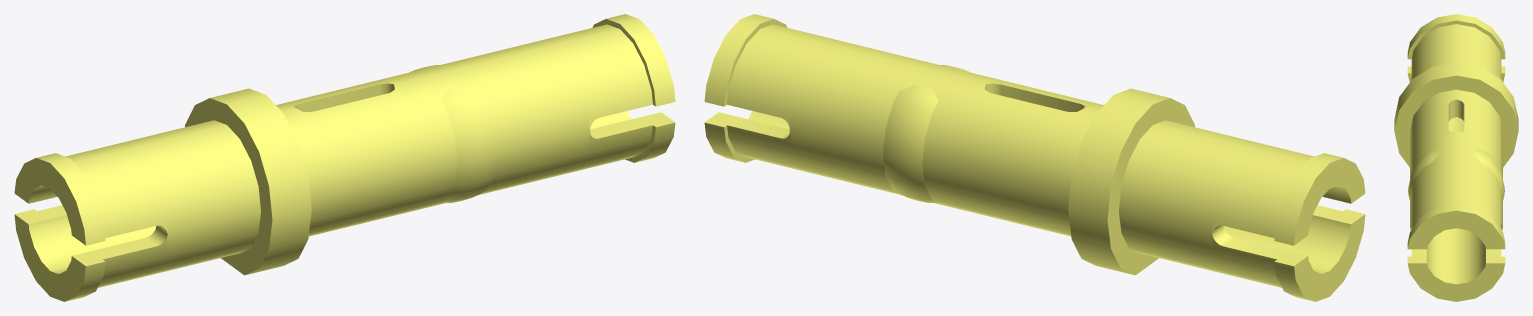
The picture shows the model from 3 angles, left to right: view 1: azimuth 30°, elevation 25°; view 2: azimuth 150°, elevation 25°; view 3: azimuth 270°, elevation 25°; orthographic projection. The views are drawn at different scales.
Parts seen in each view (by area): view 1: 32556a.dat; view 2: 32556a.dat; view 3: 32556a.dat.
Boxes of the visible parts, x1=… form: 32556a.dat: x1=14, y1=14, x2=675, y2=301; 32556a.dat: x1=704, y1=14, x2=1365, y2=301; 32556a.dat: x1=1394, y1=14, x2=1518, y2=301.
Bounding box in the file's own units: 0.024 × 0.00616 × 0.0064.
